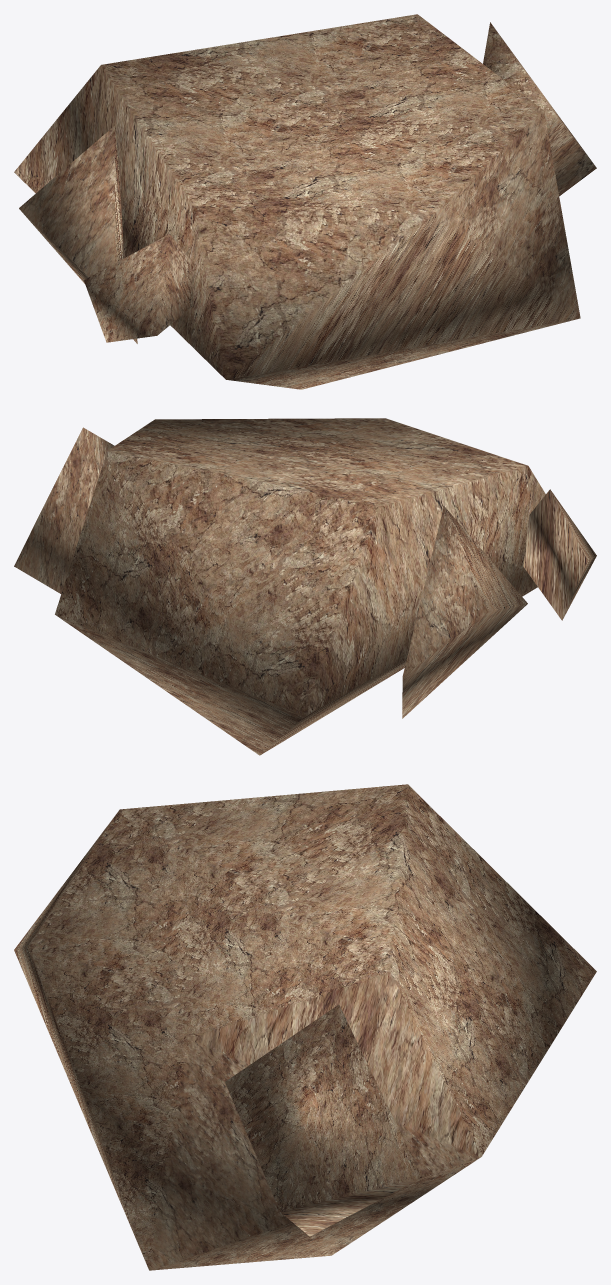
File: rock_tatt_boulder_flat2_l4.fbx
3 renders of one model, top to bottom at view 1: azimuth 30°, elevation 25°; view 2: azimuth 150°, elevation 25°; view 3: azimuth 270°, elevation 25°, orthographic. The views are drawn at different scales.
Visible parts, largest first — view 1: mesh_node; view 2: mesh_node; view 3: mesh_node.
Boxes of the visible parts, x1,y1,x2,y2 form: mesh_node: (14,14,596,389); mesh_node: (14,418,596,755); mesh_node: (14,784,596,1270).
Bounding box in the file's own units: 6.33 × 3.66 × 5.09.
